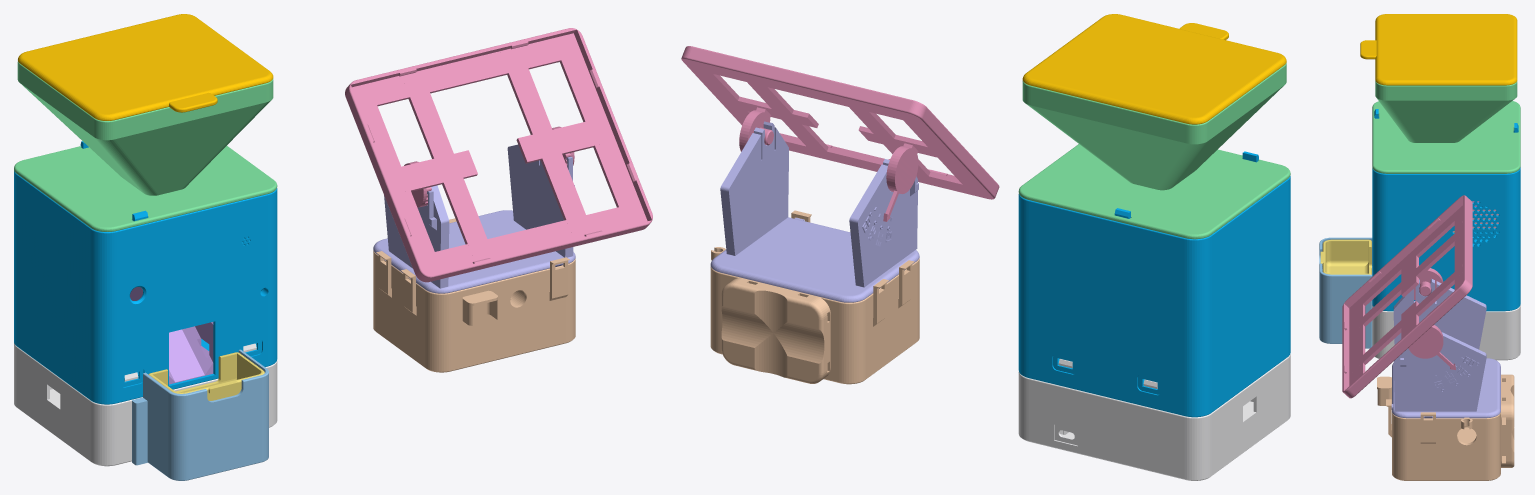
File: feeder.glb
The picture shows the model from 3 angles, left to right: view 1: azimuth 30°, elevation 25°; view 2: azimuth 150°, elevation 25°; view 3: azimuth 270°, elevation 25°; orthographic projection. The views are drawn at different scales.
Parts seen in each view (by area): view 1: 02_body, 10_solar_panel_frame, 03_hopper, 04_hopper_lid, 08_outdoor_case, 16_bowl_bay, 09_outdoor_lid, 01_base_bay, 05_wheel_housing, 11_treat_tray; view 2: 02_body, 03_hopper, 09_outdoor_lid, 08_outdoor_case, 04_hopper_lid, 01_base_bay, 10_solar_panel_frame; view 3: 02_body, 03_hopper, 10_solar_panel_frame, 04_hopper_lid, 09_outdoor_lid, 08_outdoor_case, 16_bowl_bay, 01_base_bay, 11_treat_tray.
Boxes of the visible parts, x1,y1,x2,y2 form: 02_body: (14, 141, 277, 404); 10_solar_panel_frame: (345, 28, 652, 282); 03_hopper: (14, 61, 277, 231); 04_hopper_lid: (18, 14, 273, 120); 08_outdoor_case: (373, 218, 575, 372); 16_bowl_bay: (132, 349, 268, 480); 09_outdoor_lid: (373, 144, 575, 293); 01_base_bay: (14, 343, 277, 466); 05_wheel_housing: (130, 287, 213, 384); 11_treat_tray: (148, 352, 264, 400); 02_body: (1018, 151, 1290, 417); 03_hopper: (1018, 63, 1290, 239); 09_outdoor_lid: (710, 121, 919, 302); 08_outdoor_case: (710, 210, 919, 384); 04_hopper_lid: (1022, 14, 1286, 124); 01_base_bay: (1018, 354, 1290, 480); 10_solar_panel_frame: (681, 46, 999, 221); 02_body: (1372, 109, 1520, 311); 03_hopper: (1372, 81, 1520, 173); 10_solar_panel_frame: (1342, 195, 1472, 398); 04_hopper_lid: (1360, 14, 1517, 85); 09_outdoor_lid: (1391, 279, 1500, 418); 08_outdoor_case: (1377, 374, 1514, 480); 16_bowl_bay: (1319, 237, 1372, 348); 01_base_bay: (1372, 304, 1520, 360); 11_treat_tray: (1320, 239, 1371, 274).
Size of the model in its own units: 0.3268 by 0.2028 by 0.133.
